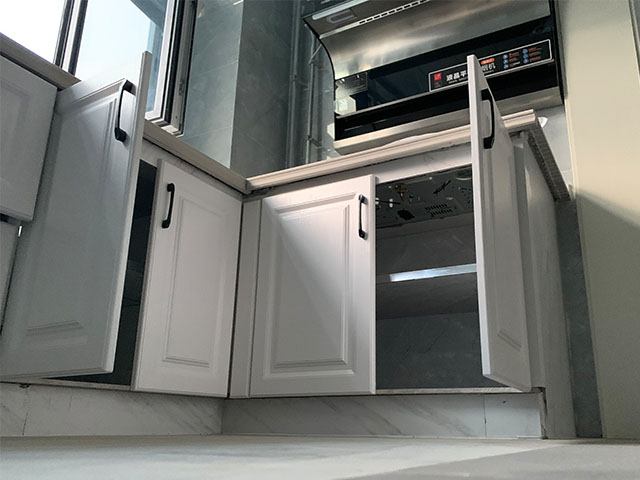cabinet: (237, 86, 553, 433), (1, 37, 254, 441)
